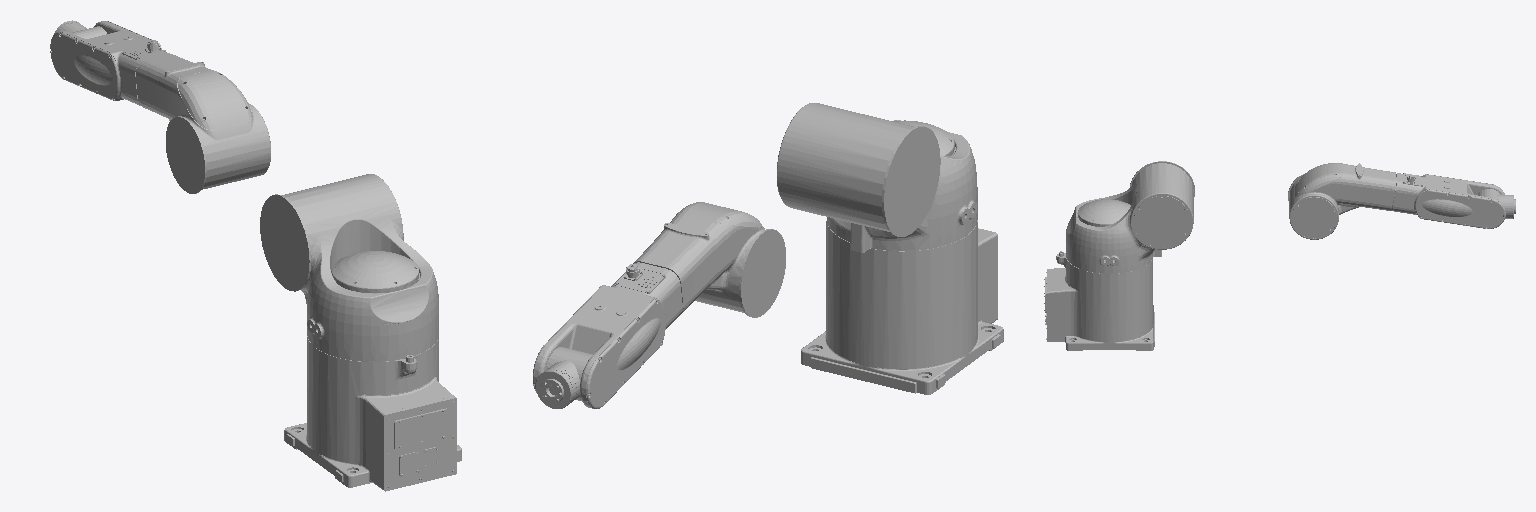
robot.urdf — dual_arm_left:
<?xml version="1.0" encoding="utf-8"?>
<!-- This URDF was automatically created by SolidWorks to URDF Exporter! Originally created by [author] ([email redacted]) 
     Commit Version: 1.6.0-4-g7f85cfe  Build Version: 1.6.7995.38578
     For more information, please see http://wiki.ros.org/sw_urdf_exporter -->
<robot
  name="dual_arm_left">
  <link
    name="link_base">
    <inertial>
      <origin
        xyz="5.6535E-17 -2.5289E-17 0.16597"
        rpy="0 0 0" />
      <mass
        value="175.47" />
      <inertia
        ixx="187.97"
        ixy="-1.1728E-15"
        ixz="-1.6491E-15"
        iyy="8.4446"
        iyz="2.0253E-17"
        izz="186.01" />
    </inertial>
    <visual>
      <origin
        xyz="0 0 0"
        rpy="0 0 0" />
      <geometry>
        <mesh
          filename="package://dual_arm_left/meshes/link_base.STL" />
      </geometry>
      <material
        name="">
        <color
          rgba="0.79216 0.81961 0.93333 1" />
      </material>
    </visual>
    <collision>
      <origin
        xyz="0 0 0"
        rpy="0 0 0" />
      <geometry>
        <mesh
          filename="package://dual_arm_left/meshes/link_base.STL" />
      </geometry>
    </collision>
  </link>
  <link
    name="link_0">
    <inertial>
      <origin
        xyz="0.025725 0.26707 -0.00042259"
        rpy="0 0 0" />
      <mass
        value="44" />
      <inertia
        ixx="0.51021"
        ixy="-0.10872"
        ixz="0.0017424"
        iyy="0.69317"
        iyz="0.00089849"
        izz="0.72221" />
    </inertial>
    <visual>
      <origin
        xyz="0 0 0"
        rpy="0 0 0" />
      <geometry>
        <mesh
          filename="package://dual_arm_left/meshes/link_0.STL" />
      </geometry>
      <material
        name="">
        <color
          rgba="0.75294 0.75294 0.75294 1" />
      </material>
    </visual>
    <collision>
      <origin
        xyz="0 0 0"
        rpy="0 0 0" />
      <geometry>
        <mesh
          filename="package://dual_arm_left/meshes/link_0.STL" />
      </geometry>
    </collision>
  </link>
  <joint
    name="joint_0"
    type="fixed">
    <origin
      xyz="0 -1.18 0.55"
      rpy="1.5708 0 1.5708" />
    <parent
      link="link_base" />
    <child
      link="link_0" />
    <axis
      xyz="0 0 0" />
  </joint>
  <link
    name="link_1">
    <inertial>
      <origin
        xyz="0.2201 -0.0003532 -0.081849"
        rpy="0 0 0" />
      <mass
        value="11.12" />
      <inertia
        ixx="0.039493"
        ixy="-0.00010125"
        ixz="-0.044928"
        iyy="0.52873"
        iyz="0.00011649"
        izz="0.53915" />
    </inertial>
    <visual>
      <origin
        xyz="0 0 0"
        rpy="0 0 0" />
      <geometry>
        <mesh
          filename="package://dual_arm_left/meshes/link_1.STL" />
      </geometry>
      <material
        name="">
        <color
          rgba="0.75294 0.75294 0.75294 1" />
      </material>
    </visual>
    <collision>
      <origin
        xyz="0 0 0"
        rpy="0 0 0" />
      <geometry>
        <mesh
          filename="package://dual_arm_left/meshes/link_1.STL" />
      </geometry>
    </collision>
  </link>
  <joint
    name="joint_1"
    type="revolute">
    <origin
      xyz="0.18 0.475 -0.0875"
      rpy="0 0 0" />
    <parent
      link="link_0" />
    <child
      link="link_1" />
    <axis
      xyz="0 0 1" />
    <limit
      lower="-3.14"
      upper="3.14"
      effort="300"
      velocity="10" />
  </joint>
  <link
    name="link_2">
    <inertial>
      <origin
        xyz="0.19683 0.033549 0.088122"
        rpy="0 0 0" />
      <mass
        value="12.054" />
      <inertia
        ixx="0.049645"
        ixy="-0.010896"
        ixz="0.0012034"
        iyy="0.1236"
        iyz="0.00064683"
        izz="0.13094" />
    </inertial>
    <visual>
      <origin
        xyz="0 0 0"
        rpy="0 0 0" />
      <geometry>
        <mesh
          filename="package://dual_arm_left/meshes/link_2.STL" />
      </geometry>
      <material
        name="">
        <color
          rgba="0.75294 0.75294 0.75294 1" />
      </material>
    </visual>
    <collision>
      <origin
        xyz="0 0 0"
        rpy="0 0 0" />
      <geometry>
        <mesh
          filename="package://dual_arm_left/meshes/link_2.STL" />
      </geometry>
    </collision>
  </link>
  <joint
    name="joint_2"
    type="revolute">
    <origin
      xyz="0.52 0 0"
      rpy="0 0 0" />
    <parent
      link="link_1" />
    <child
      link="link_2" />
    <axis
      xyz="0 0 1" />
    <limit
      lower="-3.14"
      upper="3.14"
      effort="300"
      velocity="10" />
  </joint>
  <link
    name="link_3">
    <inertial>
      <origin
        xyz="0.017057 -9.5506E-08 0.042006"
        rpy="0 0 0" />
      <mass
        value="0.82881" />
      <inertia
        ixx="0.00089751"
        ixy="-1.3693E-09"
        ixz="-3.3146E-08"
        iyy="0.0013595"
        iyz="-5.1826E-11"
        izz="0.0013682" />
    </inertial>
    <visual>
      <origin
        xyz="0 0 0"
        rpy="0 0 0" />
      <geometry>
        <mesh
          filename="package://dual_arm_left/meshes/link_3.STL" />
      </geometry>
      <material
        name="">
        <color
          rgba="0.75294 0.75294 0.75294 1" />
      </material>
    </visual>
    <collision>
      <origin
        xyz="0 0 0"
        rpy="0 0 0" />
      <geometry>
        <mesh
          filename="package://dual_arm_left/meshes/link_3.STL" />
      </geometry>
    </collision>
  </link>
  <joint
    name="joint_3"
    type="revolute">
    <origin
      xyz="0.59841 0 0.0455"
      rpy="0 0 0" />
    <parent
      link="link_2" />
    <child
      link="link_3" />
    <axis
      xyz="0 0 1" />
    <limit
      lower="-3.14"
      upper="3.14"
      effort="300"
      velocity="10" />
  </joint>
</robot>

--- What the picture shows (computed from the rendered views, not written in the file) ---
3 views of the same robot in one strip: view 1: azimuth 30°, elevation 25°; view 2: azimuth 150°, elevation 25°; view 3: azimuth 270°, elevation 25° (orthographic).
Robot: dual_arm_left — 5 links, 4 joints (3 revolute, 1 fixed); root link link_base; default pose: every joint at zero.
Links seen in each view (by area): view 1: link_0, link_2; view 2: link_0, link_2, link_3; view 3: link_0, link_2.
Link boxes in pixels (x1,y1,x2,y2): link_0: (260, 174, 461, 491); link_2: (50, 21, 270, 193); link_0: (777, 103, 1003, 394); link_2: (533, 202, 785, 408); link_3: (536, 347, 592, 408); link_0: (1044, 161, 1194, 350); link_2: (1288, 163, 1505, 239).
Bounding box of the posed robot: 0.31 × 1.61 × 0.6197 m (x, y, z).
Meshes: 5 distinct files referenced, 3 mesh visuals loaded (3 binary STL); not drawn: 2 (reference not matched to a file when rendering).